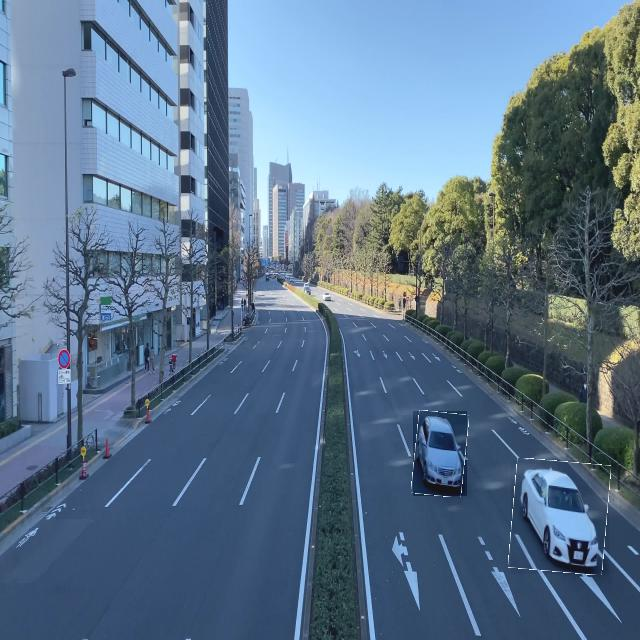Car: (511, 460, 609, 574), (413, 411, 467, 496)
